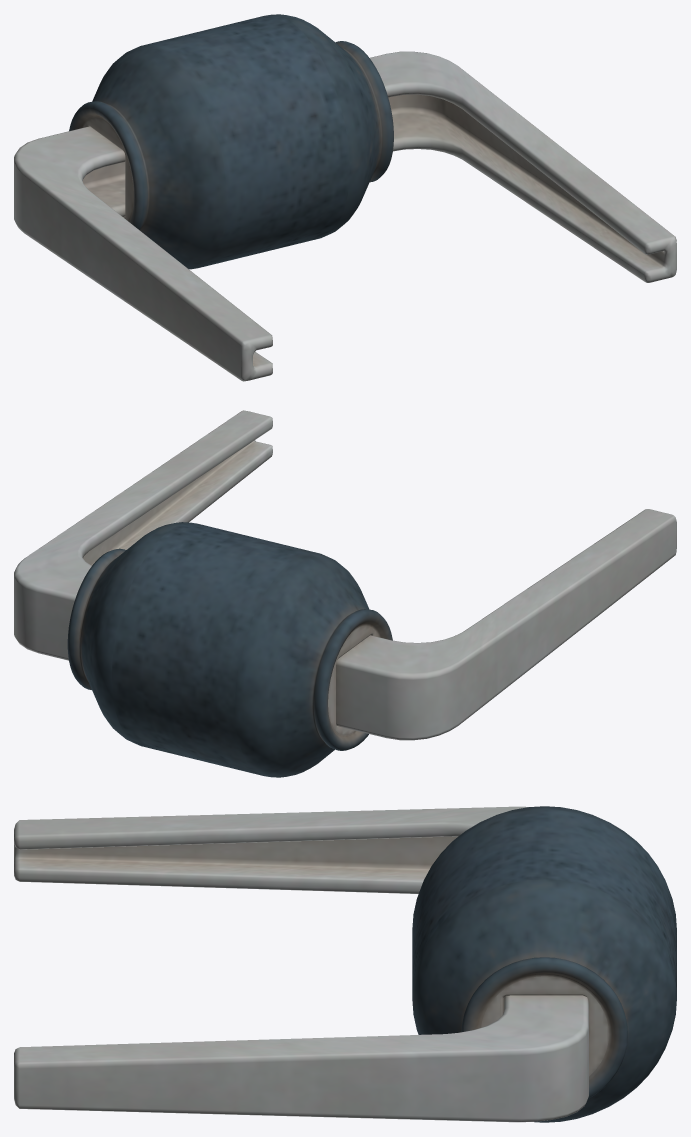
Rendered from SM_RightHandle_01.fbx.
3 renders of one model, top to bottom at view 1: azimuth 30°, elevation 25°; view 2: azimuth 150°, elevation 25°; view 3: azimuth 270°, elevation 25°, orthographic. The views are drawn at different scales.
Visible parts, largest first — view 1: SM_RightHandle_01_LOD0; view 2: SM_RightHandle_01_LOD0; view 3: SM_RightHandle_01_LOD0.
Part boxes in pixels (bbox=[...]): SM_RightHandle_01_LOD0: bbox=[14, 14, 676, 381]; SM_RightHandle_01_LOD0: bbox=[14, 410, 676, 777]; SM_RightHandle_01_LOD0: bbox=[14, 806, 676, 1122].
Size of the model in its own units: 15.16 by 17.34 by 6.92.
